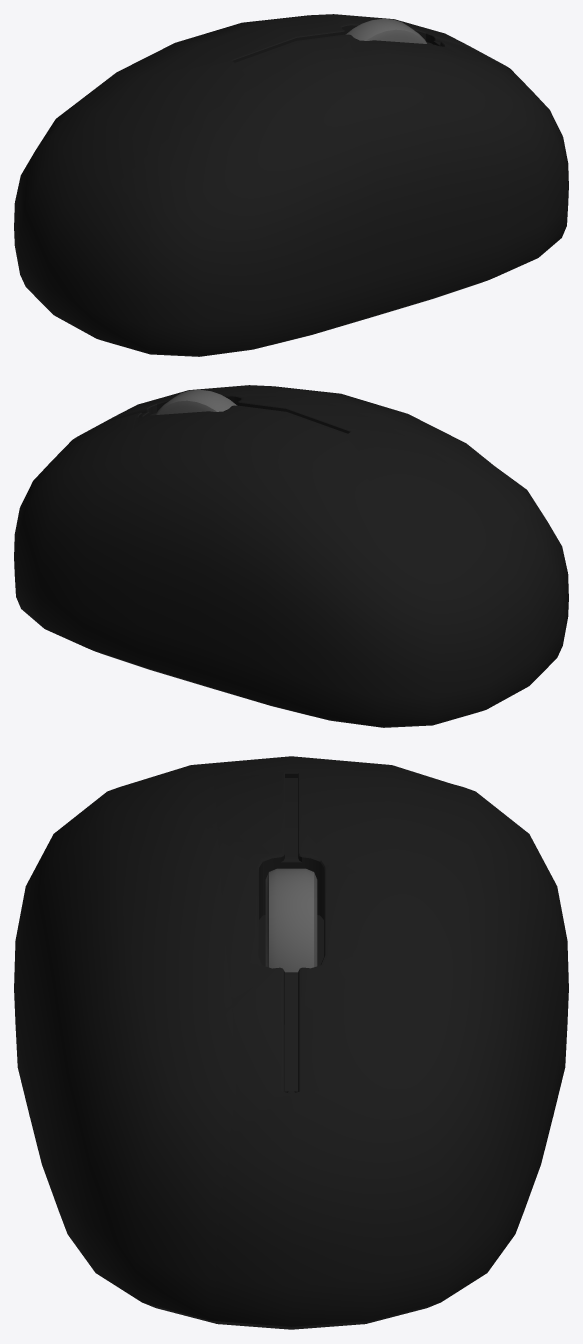
Rendered from mouse.glb.
3 renders of one model, top to bottom at view 1: azimuth 30°, elevation 25°; view 2: azimuth 150°, elevation 25°; view 3: azimuth 270°, elevation 25°, orthographic. The views are drawn at different scales.
Parts seen in each view (by area): view 1: Cube.114, Cylinder.090; view 2: Cube.114, Cylinder.090; view 3: Cube.114, Cylinder.090.
Boxes of the visible parts, x1,y1,x2,y2 form: Cube.114: (14,14,568,356); Cylinder.090: (345,19,426,43); Cube.114: (14,385,568,727); Cylinder.090: (156,390,237,414); Cube.114: (14,756,568,1329); Cylinder.090: (265,868,317,972).
Size of the model in its own units: 0.1376 by 0.0613 by 0.0858.
1 material, 1 textured.
